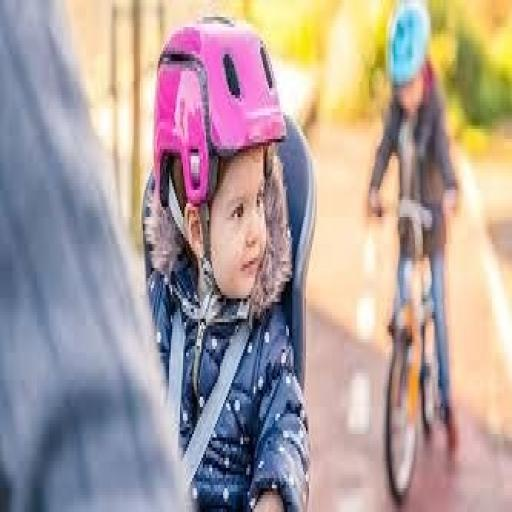cycling: (140, 10, 314, 509), (364, 0, 463, 461)
